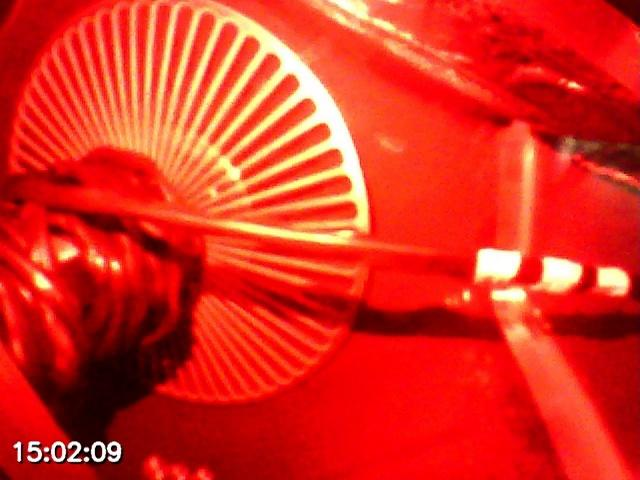white-dots: (474, 246, 630, 303)
